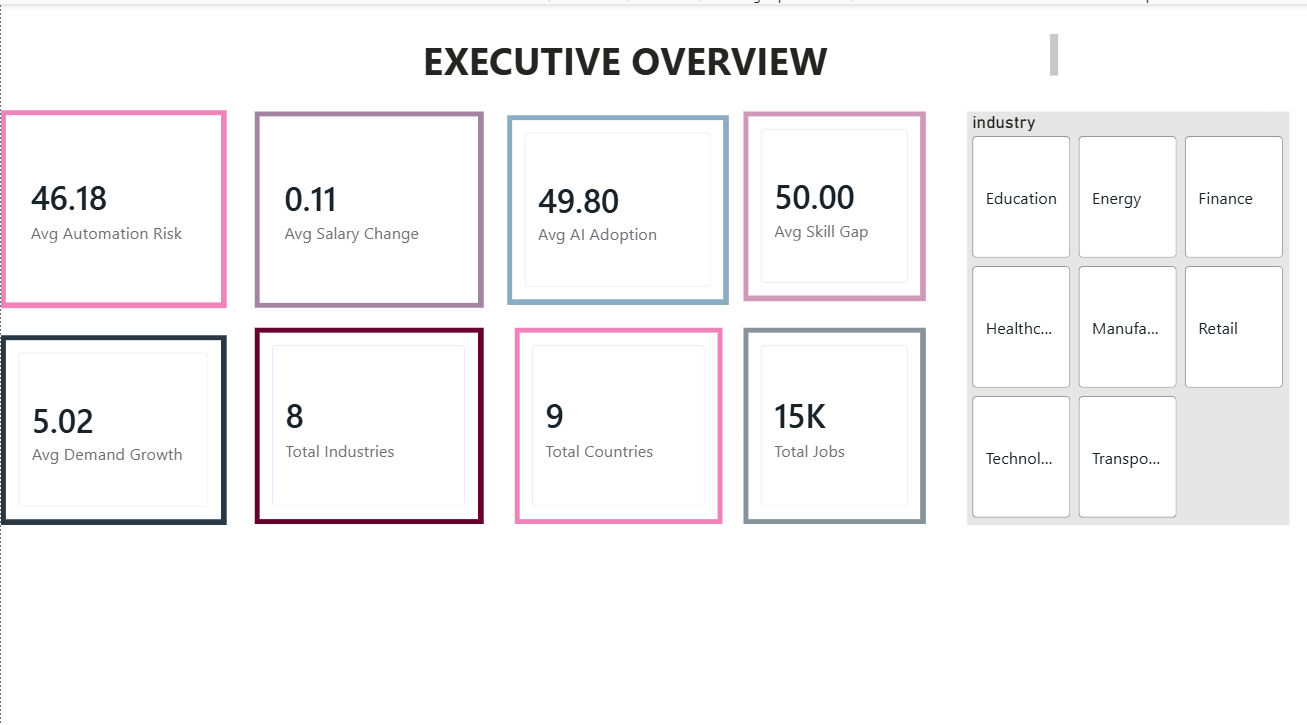

The dashboard page shown, as its layout file describes it:
{"tool":"powerbi","page":{"name":"KPI'S","canvas":[1280,720],"ordinal":0},"visuals":[{"type":"cardVisual","fields":{"Data":["ai_job_replacement_2020_2026_v2.Avg Automation Risk"]},"box":[0,104.3,220.9,193.5],"z":0},{"type":"cardVisual","fields":{"Data":["ai_job_replacement_2020_2026_v2.Avg Salary Change"]},"box":[248.4,105.7,223.7,192.1],"z":1000},{"type":"cardVisual","fields":{"Data":["ai_job_replacement_2020_2026_v2.Avg AI Adoption"]},"box":[495.4,108.4,216.8,185.2],"z":2000},{"type":"cardVisual","fields":{"Data":["ai_job_replacement_2020_2026_v2.Avg Skill Gap"]},"box":[725.9,105.7,178.4,185.2],"z":3000},{"type":"cardVisual","fields":{"Data":["ai_job_replacement_2020_2026_v2.Avg Demand Growth"]},"box":[0,323.8,220.9,185.2],"z":4000},{"type":"cardVisual","fields":{"Data":["ai_job_replacement_2020_2026_v2.Total Jobs"]},"box":[725.9,317,178.4,192.1],"z":5000},{"type":"cardVisual","fields":{"Data":["ai_job_replacement_2020_2026_v2.Total Industries"]},"box":[248.4,317,223.7,192.1],"z":6000},{"type":"cardVisual","fields":{"Data":["ai_job_replacement_2020_2026_v2.Total Countries"]},"box":[502.2,317,203.1,192.1],"z":7000},{"type":"textbox","box":[200.3,24.7,838.4,54.9],"z":8000},{"type":"textbox","box":[1103,545,177,157],"z":9000},{"type":"advancedSlicerVisual","fields":{"Values":["ai_job_replacement_2020_2026_v2.industry"]},"box":[945.5,104.3,314.2,404.8],"z":10000}]}

Visuals, with their boxes in screenshot pixels (x1, y1, x2, y2), scaled from the page's 1280x720 canvas onto the 1307x725 screenshot:
cardVisual - ai_job_replacement_2020_2026_v2.Avg Automation Risk: crop(0, 105, 226, 300)
cardVisual - ai_job_replacement_2020_2026_v2.Avg Salary Change: crop(254, 106, 482, 300)
cardVisual - ai_job_replacement_2020_2026_v2.Avg AI Adoption: crop(506, 109, 727, 296)
cardVisual - ai_job_replacement_2020_2026_v2.Avg Skill Gap: crop(741, 106, 923, 293)
cardVisual - ai_job_replacement_2020_2026_v2.Avg Demand Growth: crop(0, 326, 226, 513)
cardVisual - ai_job_replacement_2020_2026_v2.Total Jobs: crop(741, 319, 923, 513)
cardVisual - ai_job_replacement_2020_2026_v2.Total Industries: crop(254, 319, 482, 513)
cardVisual - ai_job_replacement_2020_2026_v2.Total Countries: crop(513, 319, 720, 513)
textbox: crop(205, 25, 1061, 80)
textbox: crop(1126, 549, 1306, 707)
advancedSlicerVisual - ai_job_replacement_2020_2026_v2.industry: crop(965, 105, 1286, 513)
